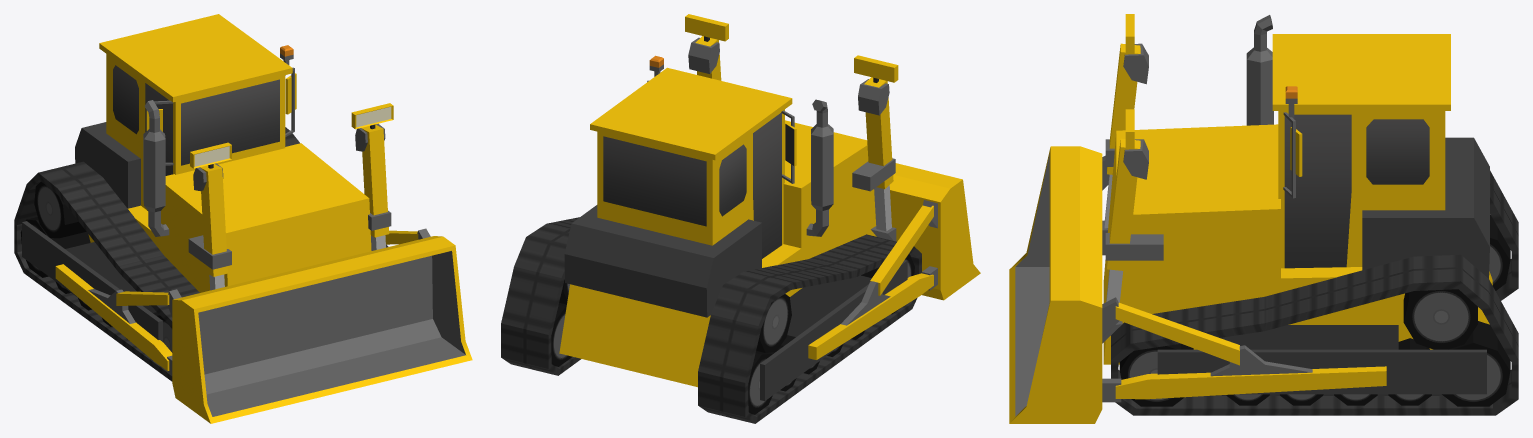
File: Bulldozer.fbx
The picture shows the model from 3 angles, left to right: view 1: azimuth 30°, elevation 25°; view 2: azimuth 150°, elevation 25°; view 3: azimuth 270°, elevation 25°; orthographic projection. The views are drawn at different scales.
Parts seen in each view (by area): view 1: Bulldozer, RailR; view 2: Bulldozer, RailR, RailL; view 3: Bulldozer, RailL, RailR.
Boxes of the visible parts, left/top/right/bottom form: Bulldozer: left=55, top=14, right=472, bottom=423; RailR: left=14, top=161, right=199, bottom=381; Bulldozer: left=559, top=14, right=980, bottom=387; RailR: left=698, top=234, right=921, bottom=423; RailL: left=501, top=217, right=580, bottom=375; Bulldozer: left=1009, top=14, right=1492, bottom=423; RailL: left=1111, top=254, right=1518, bottom=415; RailR: left=1489, top=170, right=1518, bottom=300.
Bounding box in the file's own units: 271 × 242 × 378.
